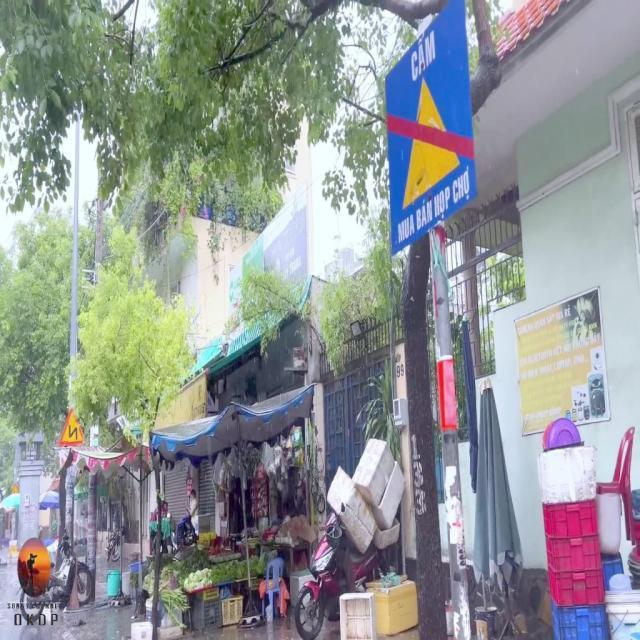201-cho-ngoat-nguy-hiem: (58, 408, 88, 448)
